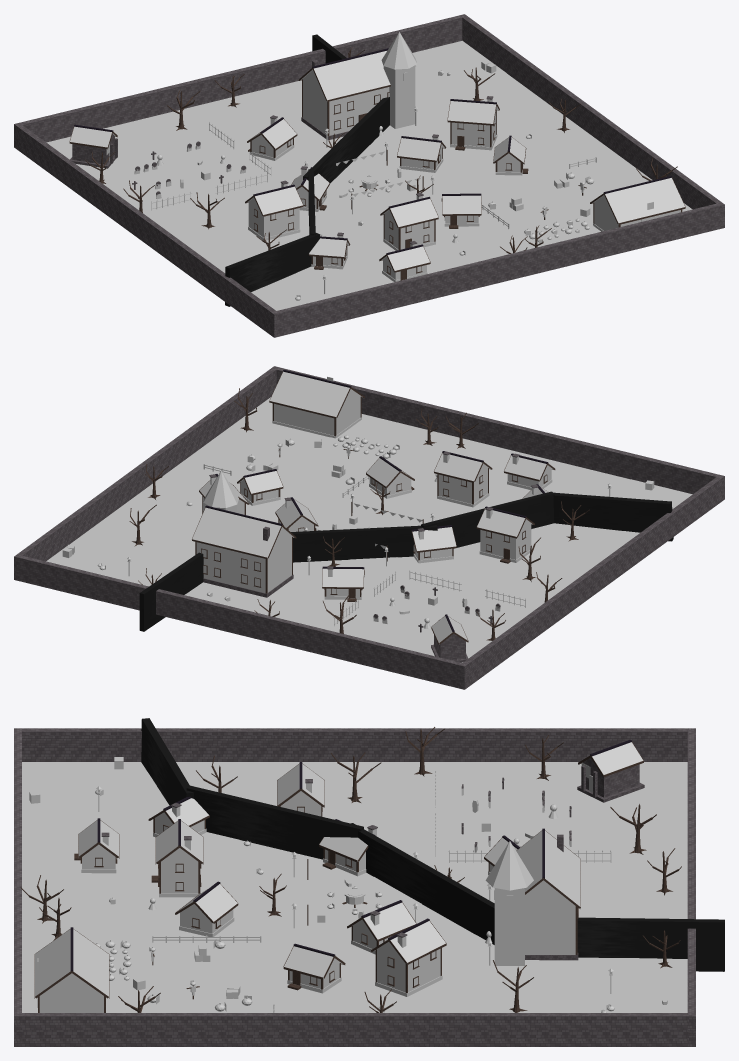
3 renders of one model, top to bottom at view 1: azimuth 30°, elevation 25°; view 2: azimuth 150°, elevation 25°; view 3: azimuth 270°, elevation 25°, orthographic. The views are drawn at different scales.
Visible parts, largest first — view 1: Stone_Dark, Ground_DeadGrass, Ground_Mud, Roof_Purple, House_Rotten_Plaster, Site_Tiles, House_Trim, Roof_Brown, Wood_Dark, Ground_Cobble, Ground_Dirt, Cube.005 (+13 smaller); view 2: Stone_Dark, Ground_DeadGrass, Ground_Mud, Roof_Purple, House_Rotten_Plaster, Site_Tiles, Cube.003, Cube.005, House_Trim, Ground_Dirt, Roof_Brown, Wood_Dark (+14 smaller); view 3: Ground_DeadGrass, Stone_Dark, Ground_Mud, House_Rotten_Plaster, Roof_Purple, Site_Tiles, Cube, Cube.004, Cube.003, Ground_Dirt, Roof_Brown, House_Trim (+16 smaller).
Part boxes in pixels (bbox=[...]): Stone_Dark: bbox=[14, 14, 724, 337]; Ground_DeadGrass: bbox=[46, 73, 692, 299]; Ground_Mud: bbox=[163, 75, 576, 298]; Roof_Purple: bbox=[247, 32, 498, 270]; House_Rotten_Plaster: bbox=[297, 65, 520, 266]; Site_Tiles: bbox=[115, 147, 589, 220]; House_Trim: bbox=[69, 67, 685, 280]; Roof_Brown: bbox=[309, 138, 684, 257]; Wood_Dark: bbox=[85, 47, 677, 280]; Ground_Cobble: bbox=[326, 166, 421, 209]; Ground_Dirt: bbox=[485, 182, 609, 236]; Cube.005: bbox=[225, 233, 320, 306]; Stone_Dark: bbox=[14, 366, 724, 689]; Ground_DeadGrass: bbox=[69, 397, 630, 662]; Ground_Mud: bbox=[80, 450, 639, 628]; Roof_Purple: bbox=[192, 453, 553, 587]; House_Rotten_Plaster: bbox=[196, 464, 487, 593]; Site_Tiles: bbox=[278, 449, 501, 642]; Cube.003: bbox=[291, 525, 437, 562]; Cube.005: bbox=[553, 492, 673, 541]; House_Trim: bbox=[192, 372, 555, 644]; Ground_Dirt: bbox=[255, 437, 388, 489]; Roof_Brown: bbox=[269, 371, 548, 527]; Wood_Dark: bbox=[129, 388, 589, 640]; Ground_DeadGrass: bbox=[22, 762, 687, 1012]; Stone_Dark: bbox=[14, 728, 695, 1046]; Ground_Mud: bbox=[45, 771, 664, 1012]; House_Rotten_Plaster: bbox=[155, 812, 575, 992]; Roof_Purple: bbox=[78, 764, 580, 963]; Site_Tiles: bbox=[144, 788, 598, 1001]; Cube: bbox=[577, 917, 724, 971]; Cube.004: bbox=[186, 785, 363, 859]; Cube.003: bbox=[351, 823, 494, 944]; Ground_Dirt: bbox=[109, 942, 262, 1012]; Roof_Brown: bbox=[35, 798, 415, 997]; House_Trim: bbox=[34, 742, 643, 1012].
Bounding box in the file's own units: 101 × 21.87 × 106.
